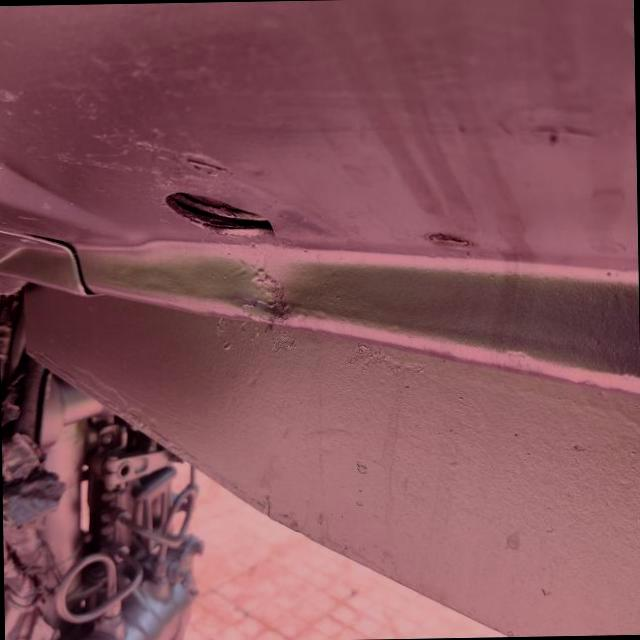dent: (237, 250, 305, 322)
